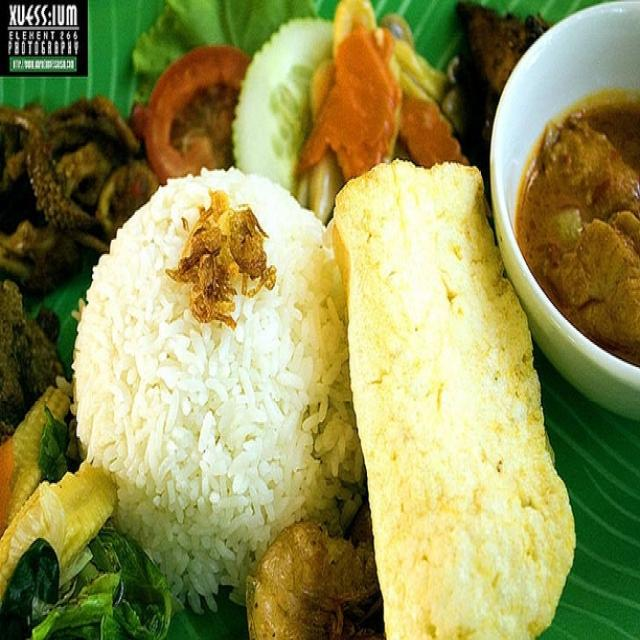米饭主食: (16, 15, 623, 630)
